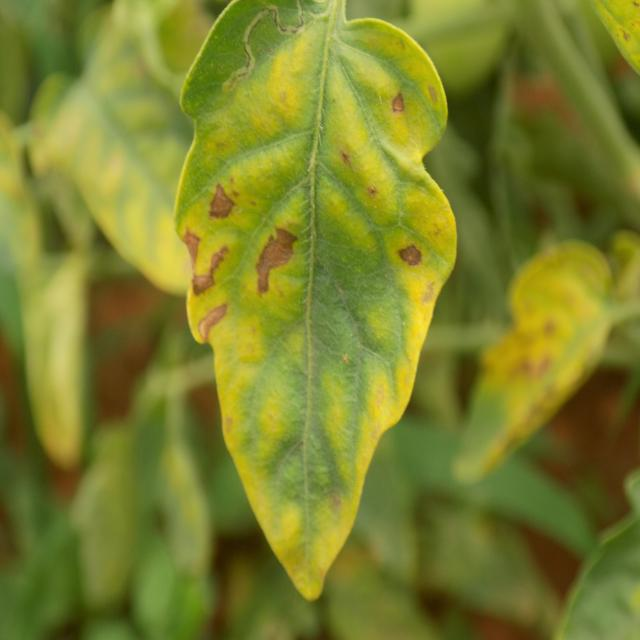tomato_early blight: (175, 0, 458, 601), (38, 0, 240, 294), (457, 235, 640, 482)
